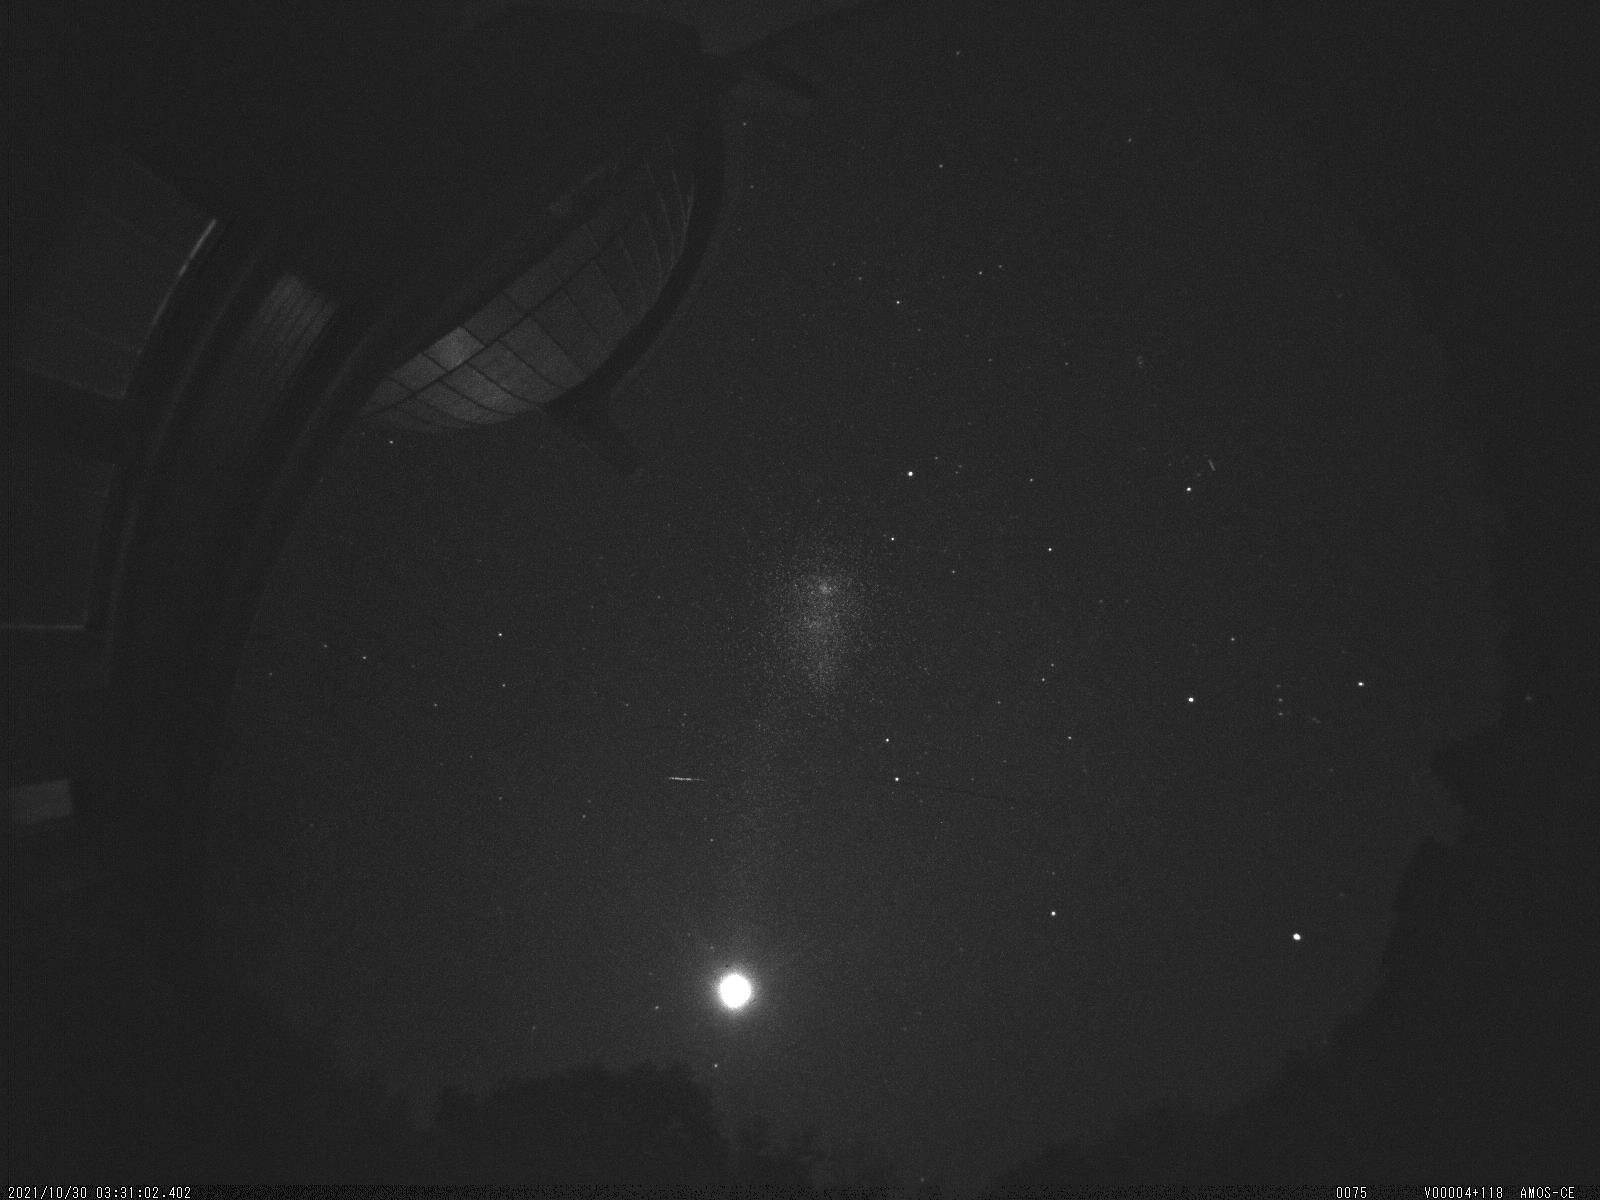Meteor: (654, 765, 713, 797)
